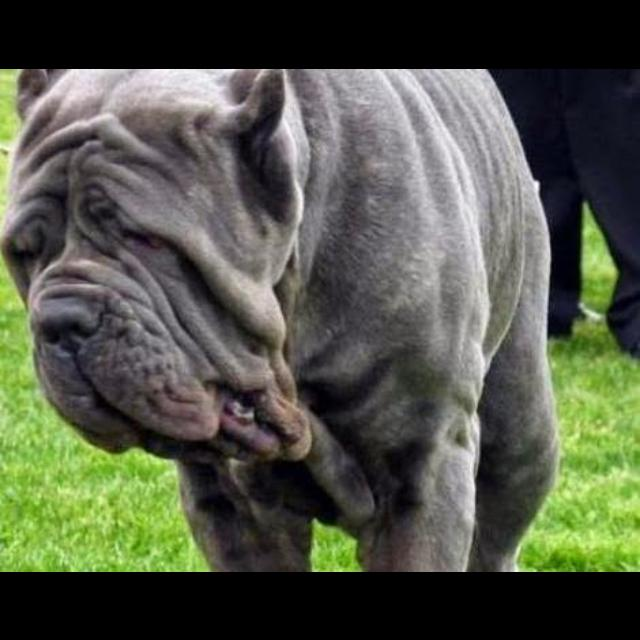mastino_napoletano: (2, 69, 563, 571)
